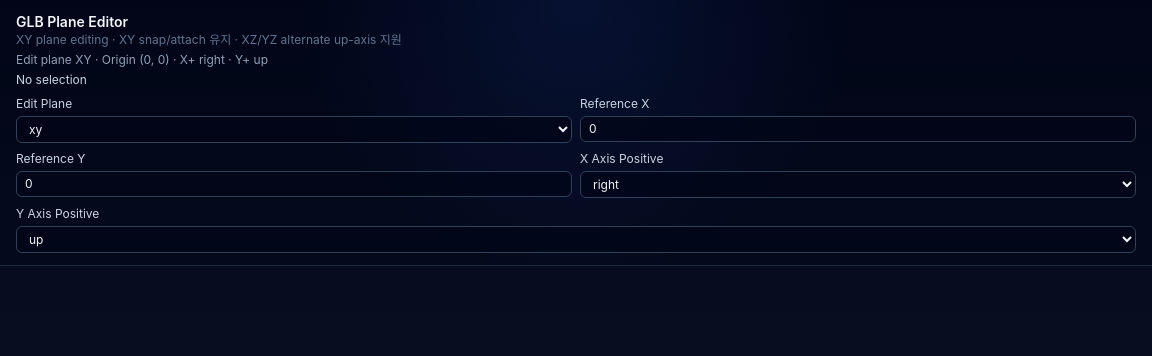
Scenario: TopViewCanvas › lets users edit the 2D axis directions and reference coordinates
expect the text "Edit plane XY · Origin (0, 0) · X+ right · Y+ up" is shown: met, box [16, 52, 268, 67]
Select "xz" in the dropdown labelled "Edit Plane" at (294, 130), box [16, 116, 572, 143]
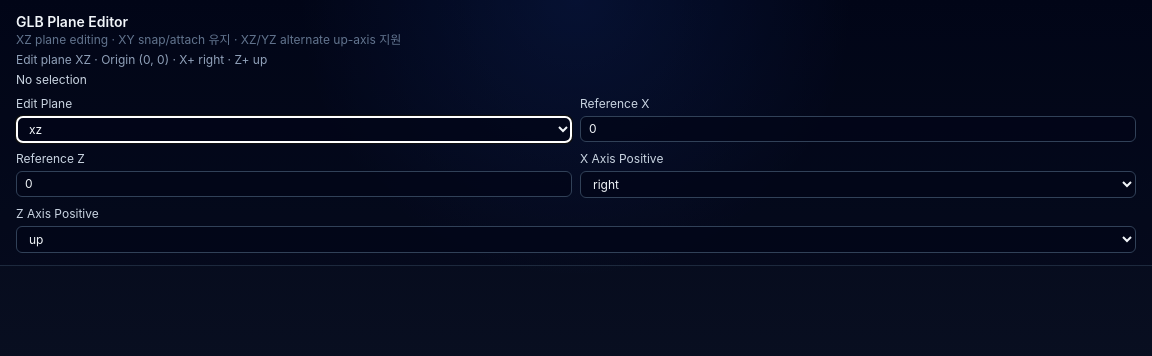
Replace the text in the number field labelled "Reference X" with "120" at (858, 129), box [580, 116, 1136, 142]
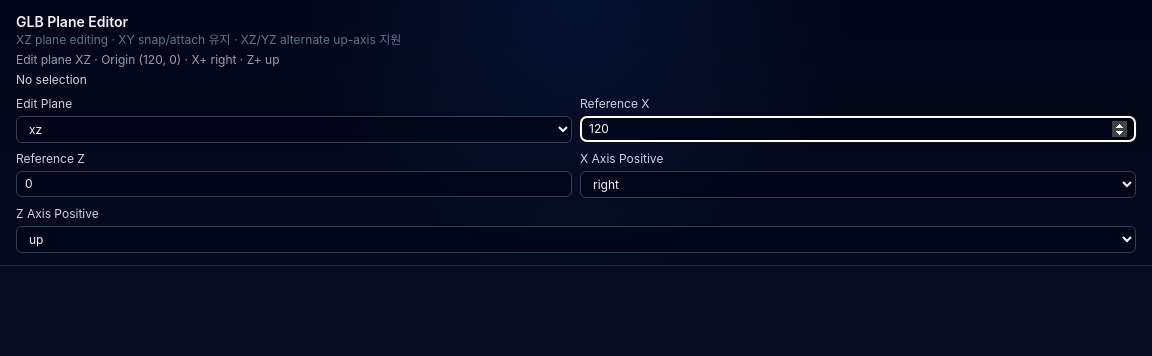
Replace the text in the number field labelled "Reference Z" with "35" at (294, 184), box [16, 171, 572, 197]
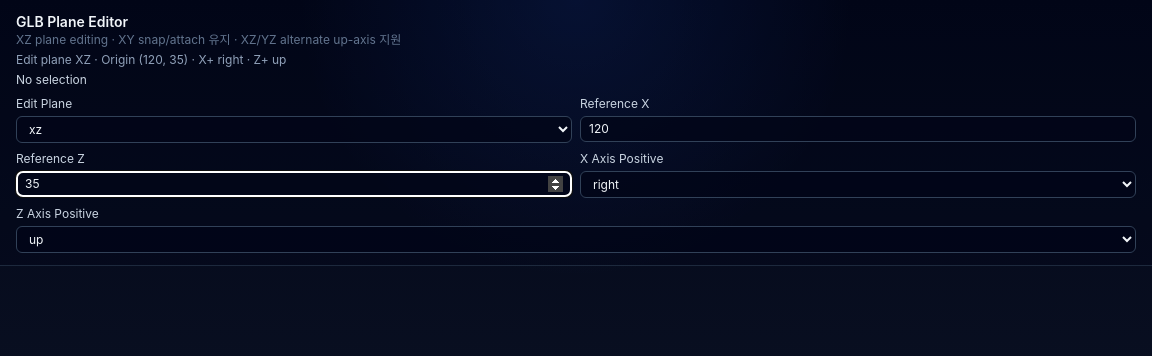
Select "left" in the dropdown labelled "X Axis Positive" at (858, 184), box [580, 171, 1136, 198]
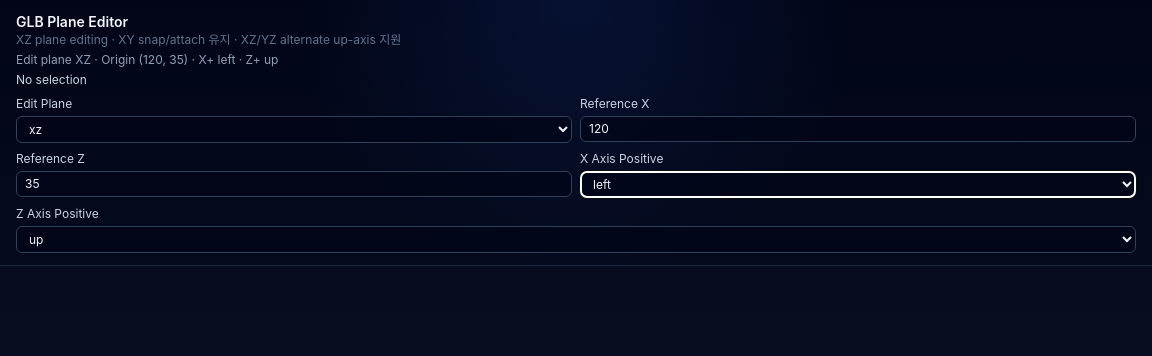
Select "down" in the dropdown labelled "Z Axis Positive" at (576, 240), box [16, 226, 1136, 253]
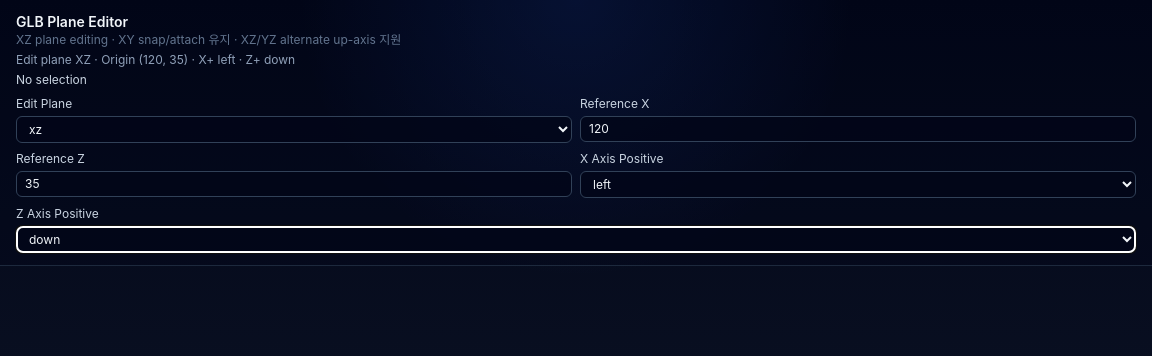
expect the text "Edit plane XZ · Origin (120, 35) · X+ left · Z+ down" is shown: met, box [16, 52, 295, 67]
